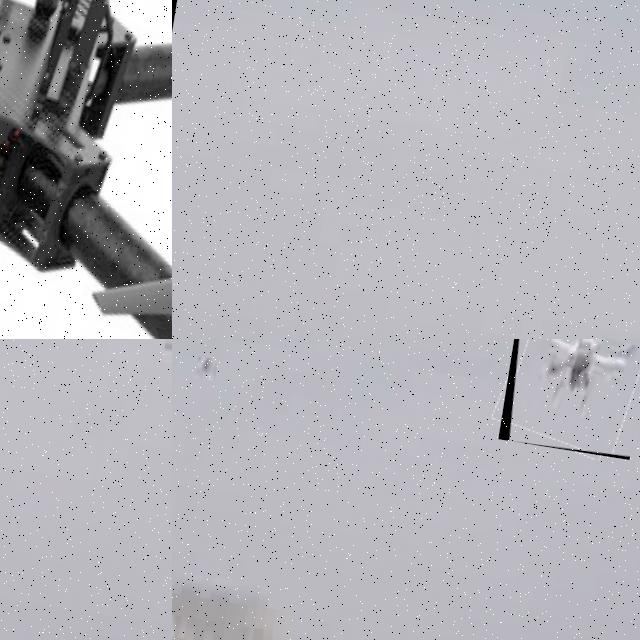0: (498, 339, 640, 460)
drone: (0, 0, 172, 339)
